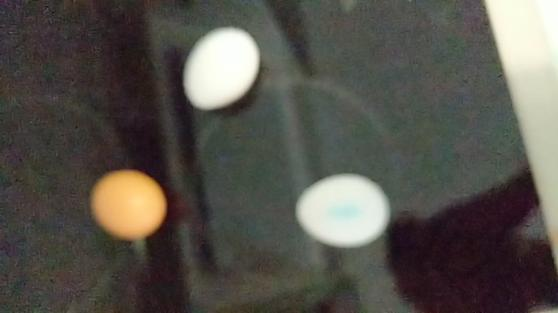egg: (290, 172, 390, 249), (178, 26, 261, 112), (90, 166, 167, 241)
